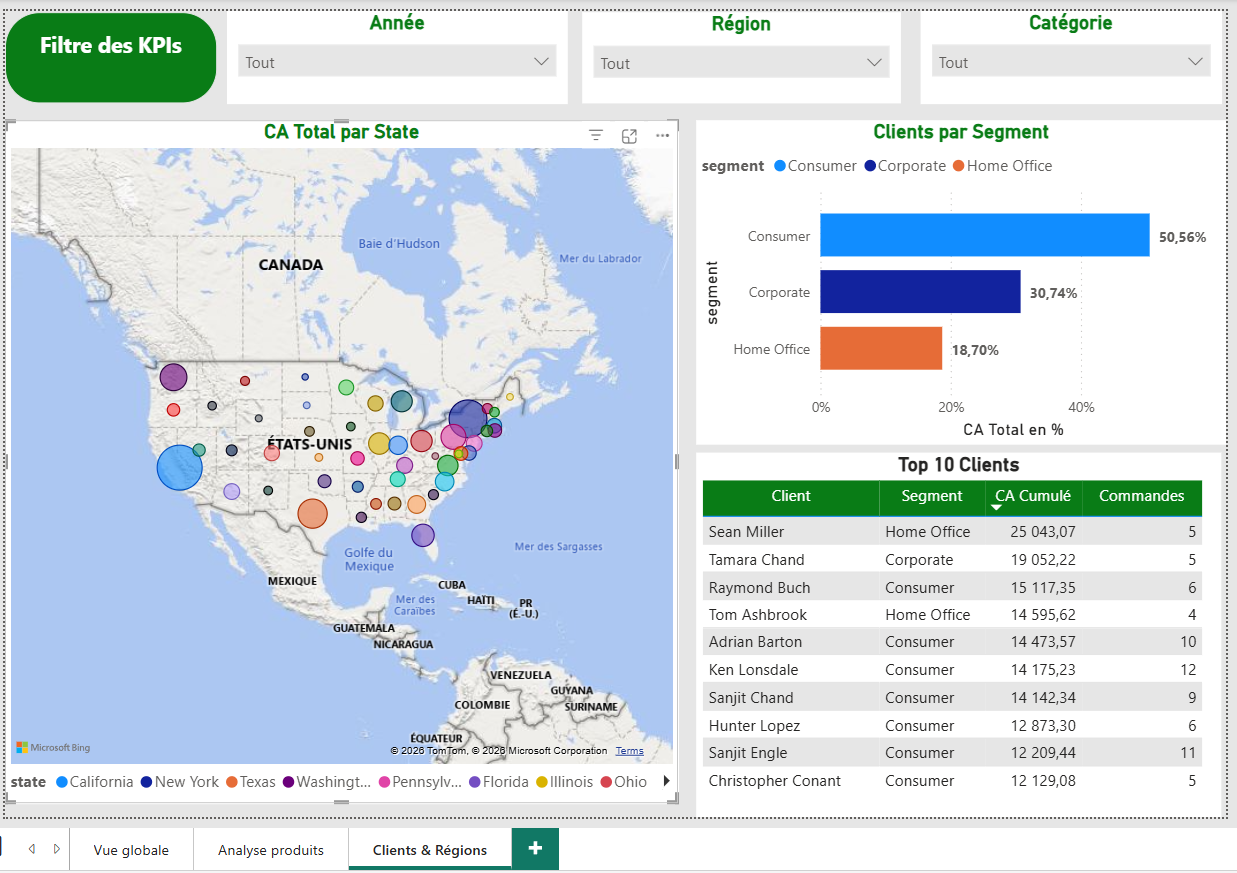

This screenshot's page, from the dashboard's own definition file:
{"tool":"powerbi","page":{"name":"Clients & Régions","canvas":[1060,700],"ordinal":2},"visuals":[{"type":"textbox","box":[0,1.1,183.9,79.6],"z":0},{"type":"map","title":"CA Total par State","fields":{"Category":["dim_region.state"],"Size":["Sum(fact_sales.sales_amount)"],"Series":["dim_region.state"]},"box":[0,94.5,584.6,593.4],"z":1000},{"type":"barChart","title":"Clients par Segment","fields":{"Category":["dim_customer.segment"],"Y":["Sum(fact_sales.sales_amount)"],"Series":["dim_customer.segment"]},"box":[600,94.5,460.4,281.3],"z":2000},{"type":"tableEx","title":"Top 10 Clients","fields":{"Values":["dim_customer.customer_name","dim_customer.segment","Sum(fact_sales.sales_amount)","fact_sales.order_id"]},"box":[600,383.5,456,316.5],"z":3000},{"type":"slicer","title":"Année","fields":{"Values":["dim_date.year"]},"box":[192.5,0,295.7,80.6],"z":4000},{"type":"slicer","title":"Région","fields":{"Values":["dim_region.region"]},"box":[501.1,1.1,276.3,79.6],"z":5000},{"type":"slicer","title":"Catégorie","fields":{"Values":["dim_product.category"]},"box":[794.6,0,261.3,80.6],"z":6000}]}

Visuals, with their boxes on the page's 1060x700 design canvas (x1, y1, x2, y2). These are canvas units, not pixel positions in the 1237x873 screenshot, which may show the page scaled, cropped or inside an application window:
textbox: pyautogui.locateOnScreen(0, 1, 184, 81)
"CA Total par State" map: pyautogui.locateOnScreen(0, 94, 585, 688)
"Clients par Segment" barChart: pyautogui.locateOnScreen(600, 94, 1060, 376)
"Top 10 Clients" tableEx: pyautogui.locateOnScreen(600, 384, 1056, 700)
"Année" slicer: pyautogui.locateOnScreen(192, 0, 488, 81)
"Région" slicer: pyautogui.locateOnScreen(501, 1, 777, 81)
"Catégorie" slicer: pyautogui.locateOnScreen(795, 0, 1056, 81)
